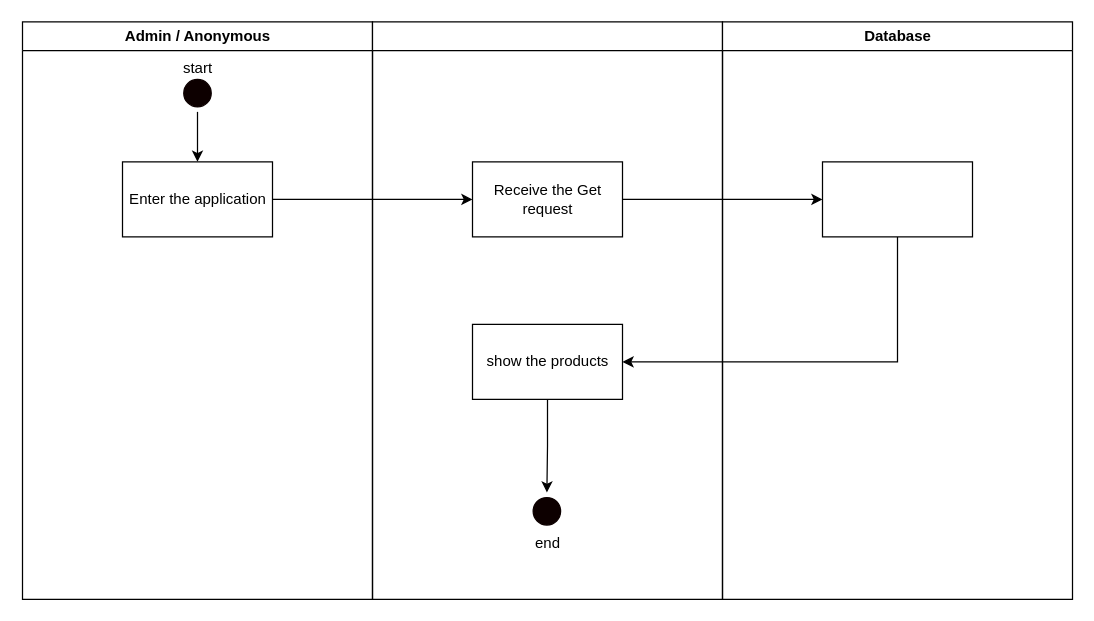
Some shapes in this 1094 by 621 pixel diagram are drawn without their labels. Each missing label, with the box of its shape:
Gets all products: (821, 161, 972, 237)
System: (371, 21, 722, 599)
